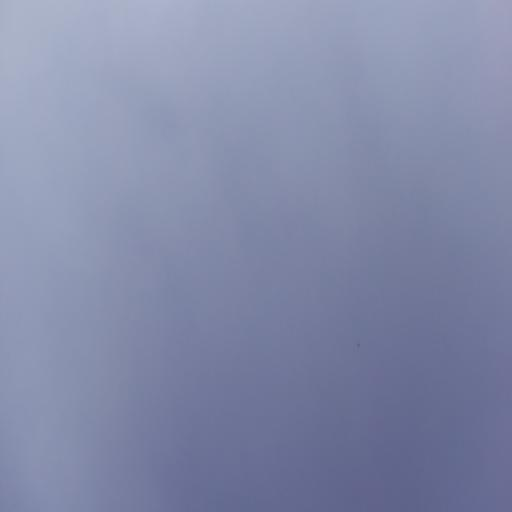drones: (356, 339, 362, 351)
